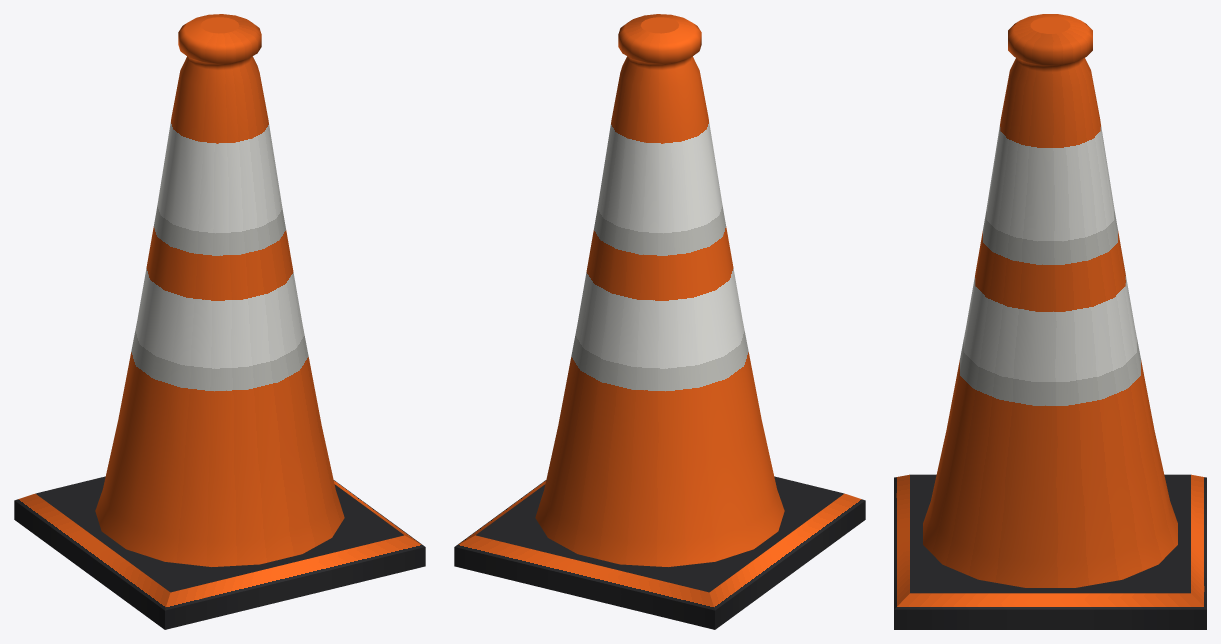
The model's file is workzone_cone.obj.
The picture shows the model from 3 angles, left to right: view 1: azimuth 30°, elevation 25°; view 2: azimuth 150°, elevation 25°; view 3: azimuth 270°, elevation 25°; orthographic projection. The views are drawn at different scales.
Visible parts, largest first — view 1: workzone_cone; view 2: workzone_cone; view 3: workzone_cone.
Boxes of the visible parts, x1,y1,x2,y2 form: workzone_cone: (14,14,425,629); workzone_cone: (454,14,865,629); workzone_cone: (894,14,1206,629).
Bounding box in the file's own units: 0.4056 × 0.77 × 0.4056.
